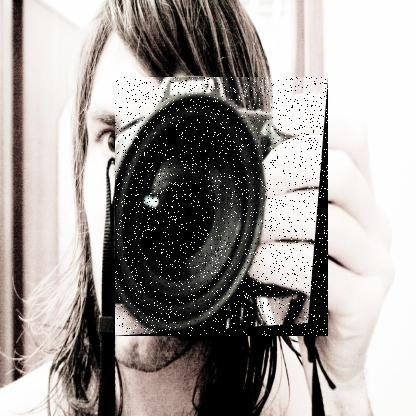Camera: (116, 78, 330, 338)
